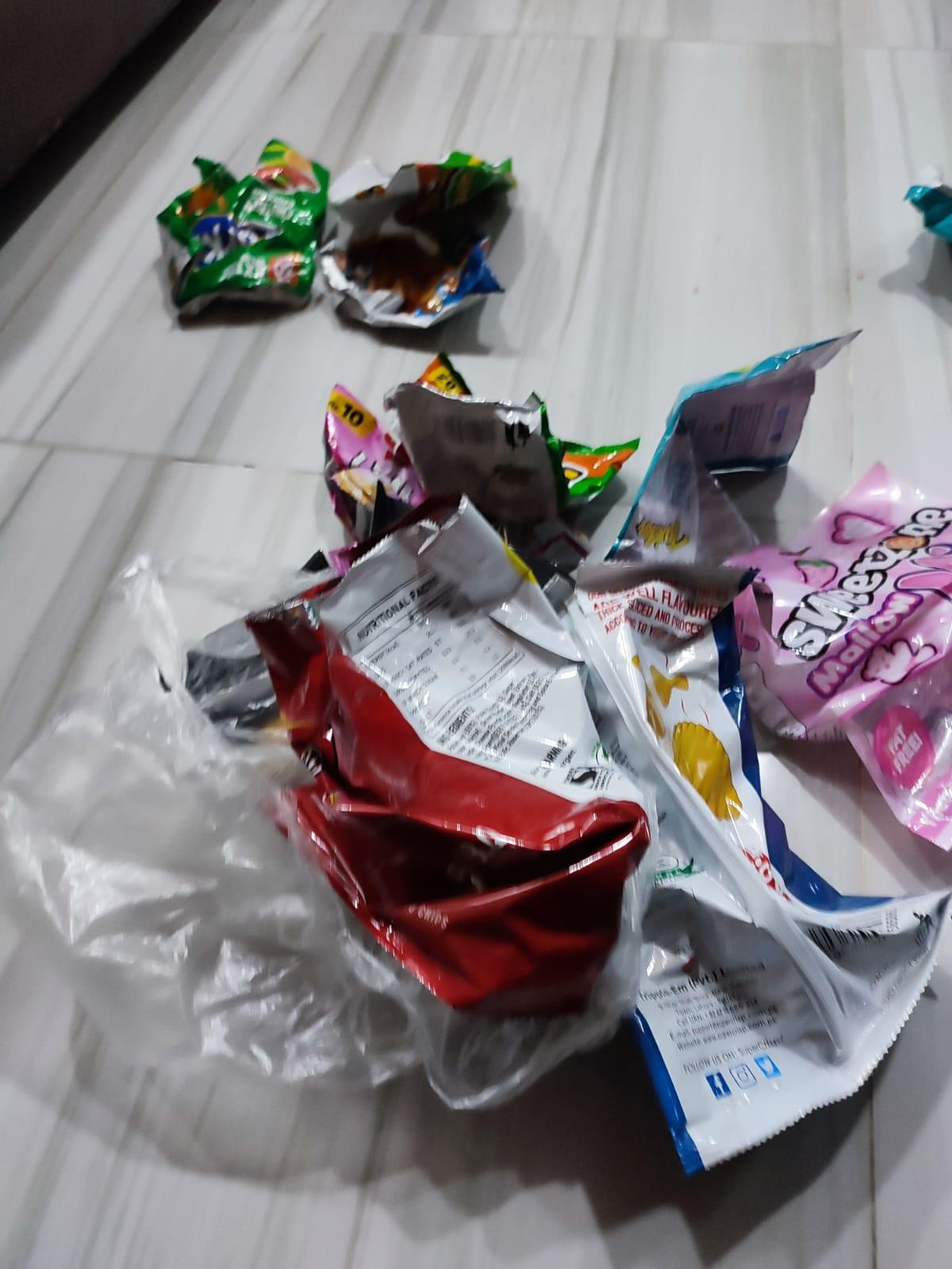garbage: (89, 376, 952, 1130), (146, 106, 554, 335)
